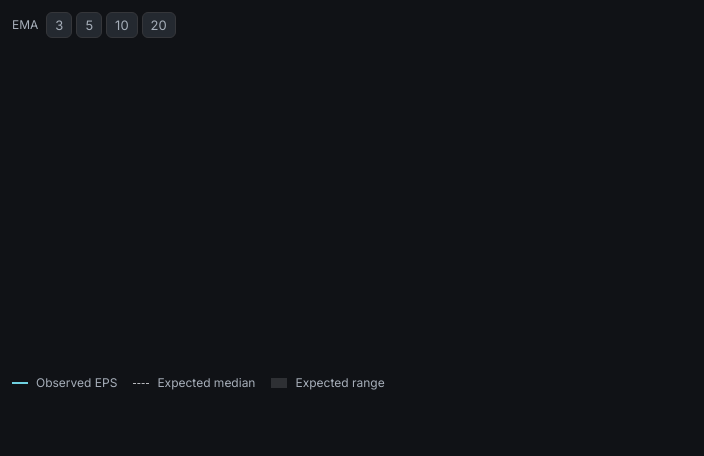
it: EMA legend, note and text › falls back to buckets when the bucket length is not uniform
Click the button named "EMA 3" at (59, 25), box [46, 12, 72, 38]
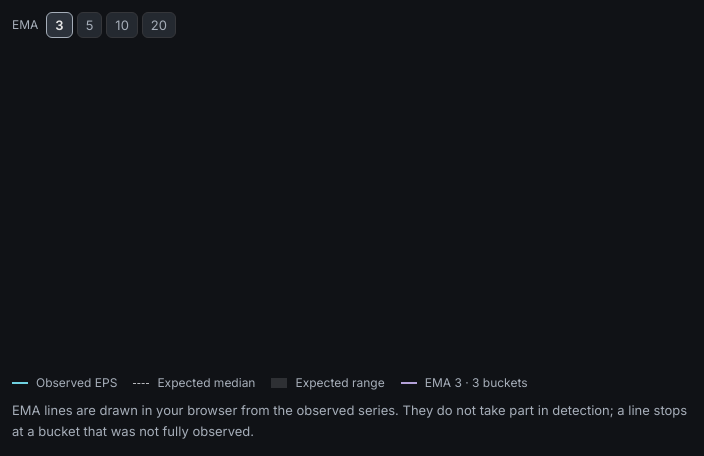
Result: the list item "EMA 3 · 3 buckets" is shown at [401, 374, 528, 392]
